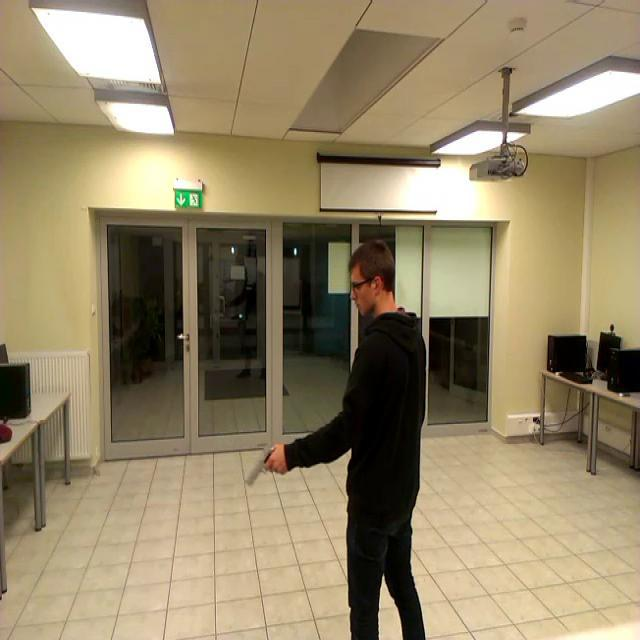Gun: (247, 443, 284, 486)
